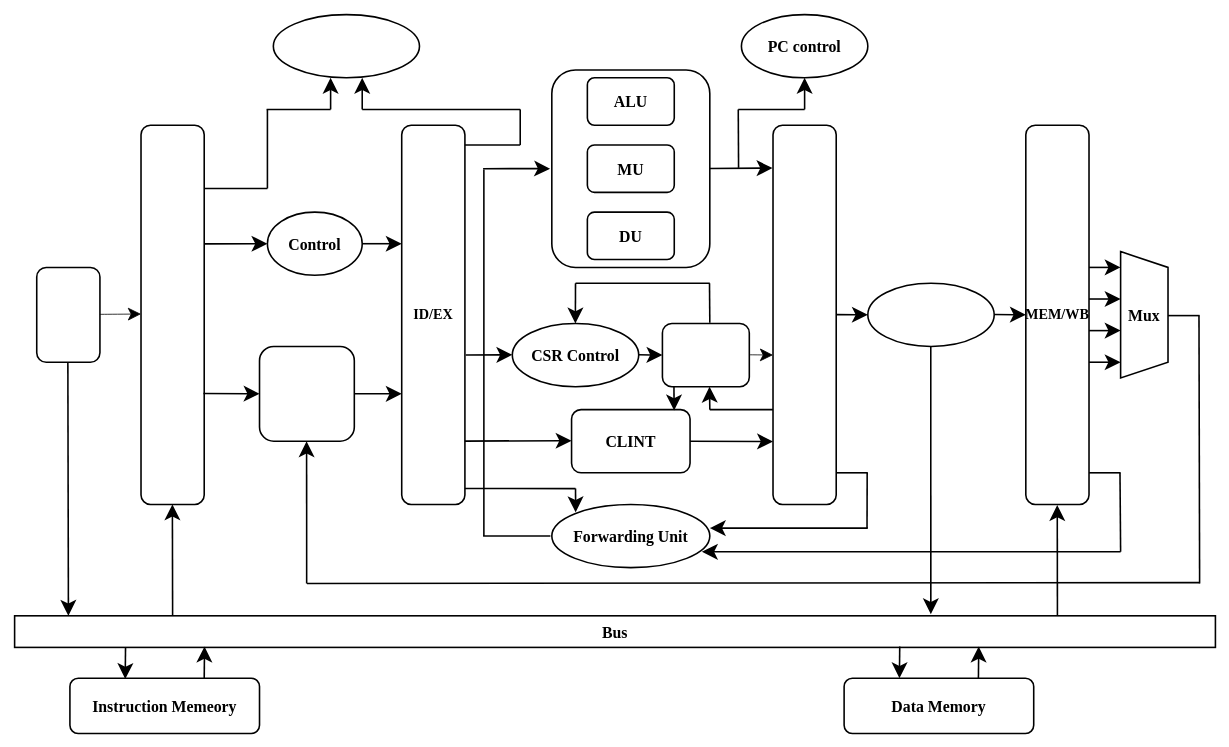
Some shapes in this 1229 by 747 pixel diagram are drawn without their labels. Each missing label, with the centre of its shape:
CSR: point 705,354
Data Control: point 931,314
EX/MEM: point 804,314
Hazard Detection: point 346,45
IF/ID: point 172,314
PC: point 68,314
Register file: point 306,393
